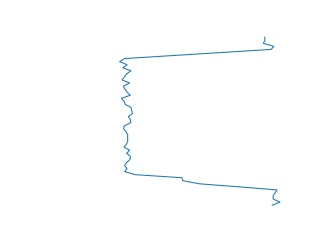distributaryChannelFill: (116, 37, 288, 206)
